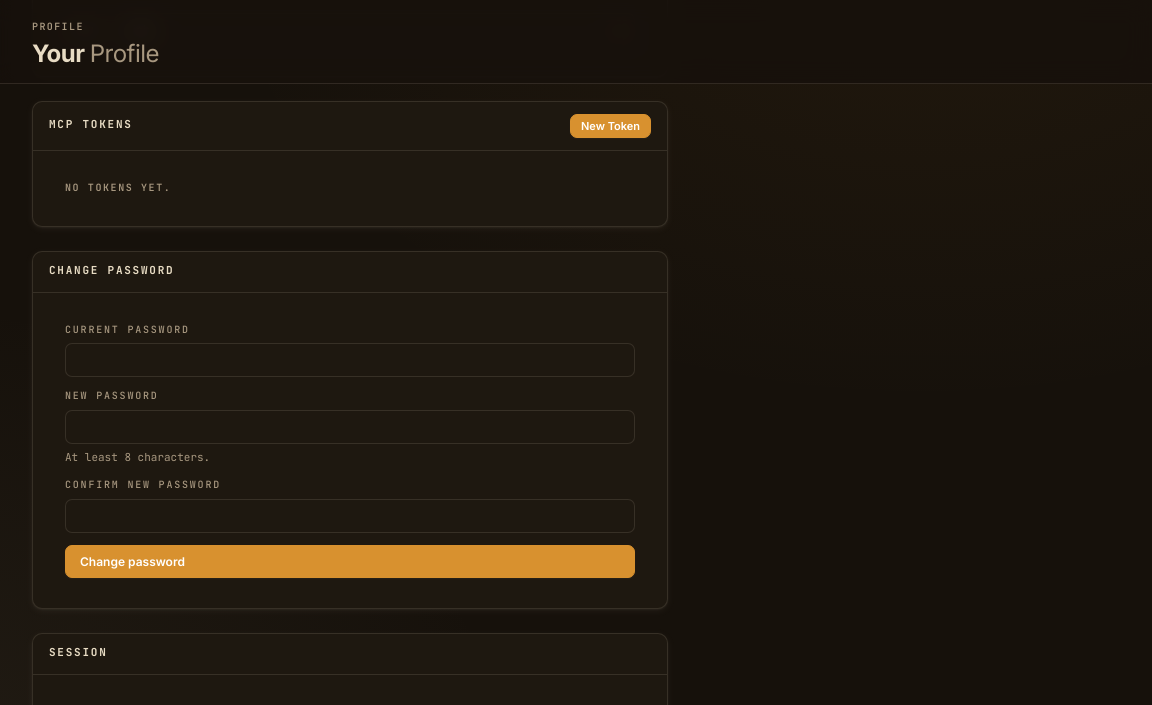
Test: Profile › shows the server error when the current password is wrong
(page scrolled)
In the password field labelled "Current password": (350, 360) [65,343,635,377], type "wrong"
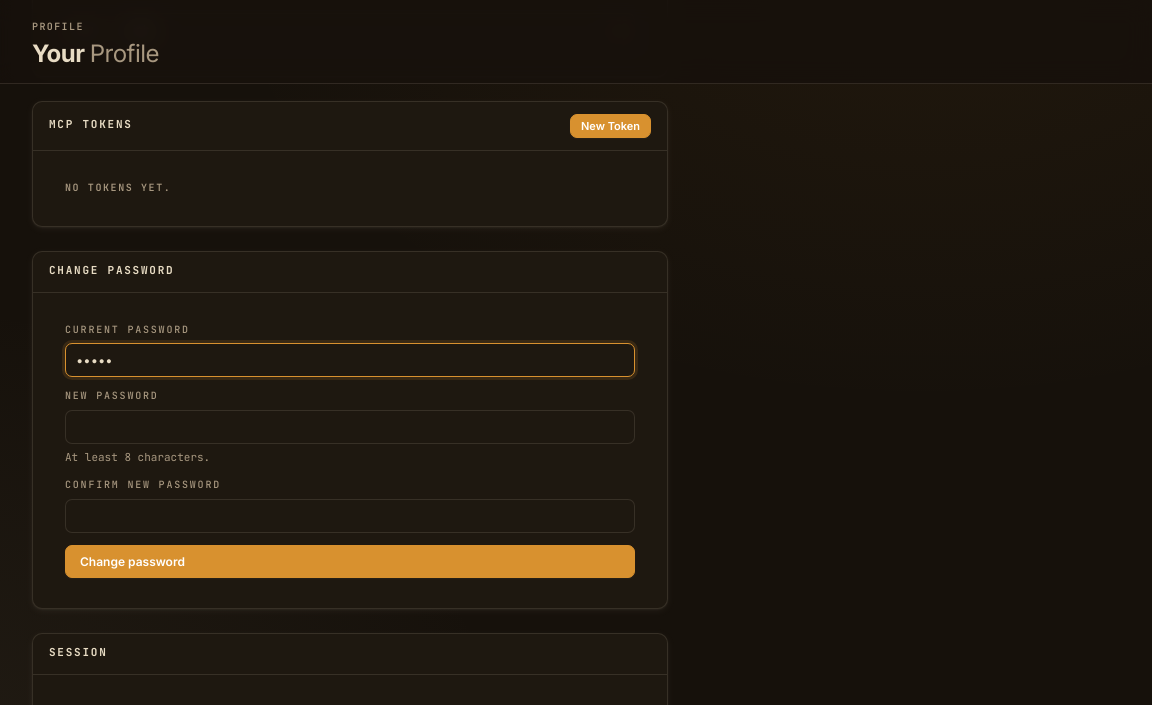
In the password field labelled "New password": (350, 427) [65,410,635,444], type "newsecret1"
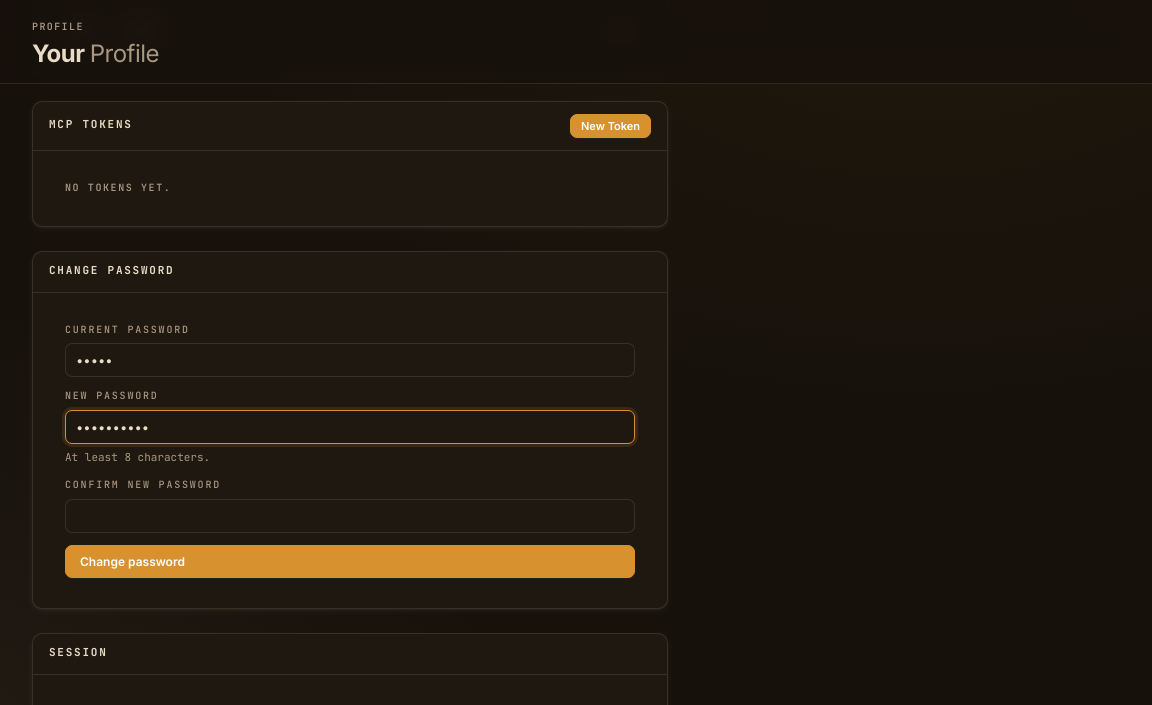
In the password field labelled "Confirm new password": (350, 516) [65,499,635,533], type "newsecret1"
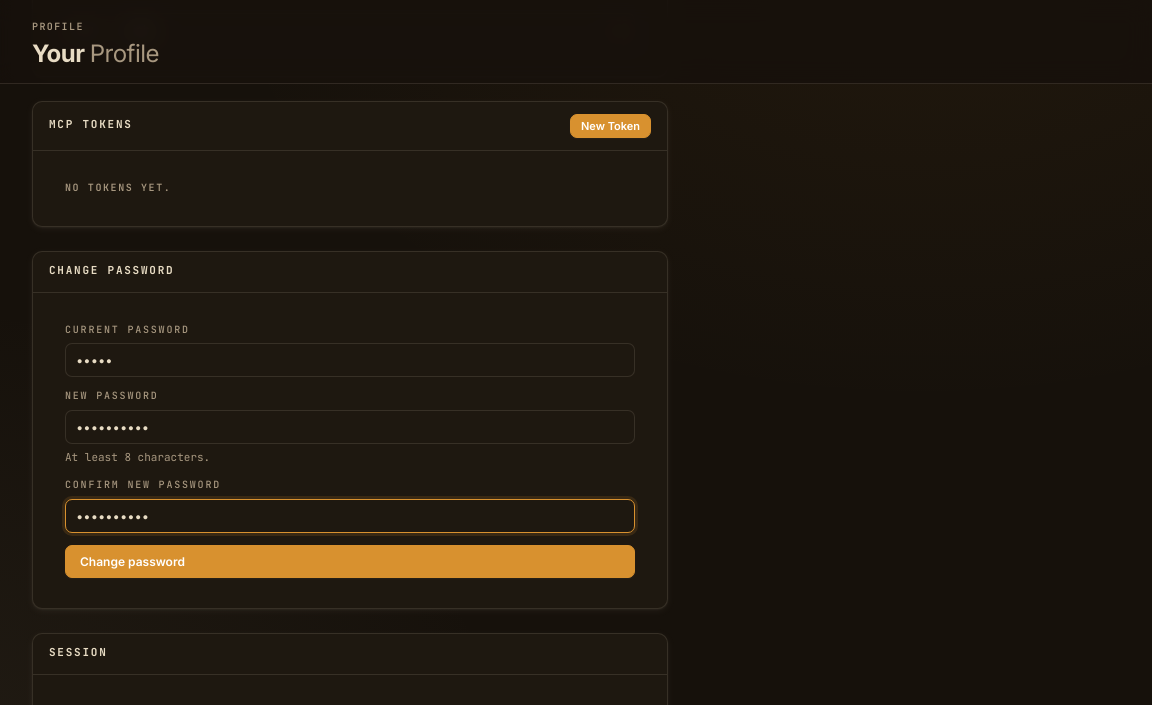
Click the button "Change password": (132, 561) [65,545,635,578]
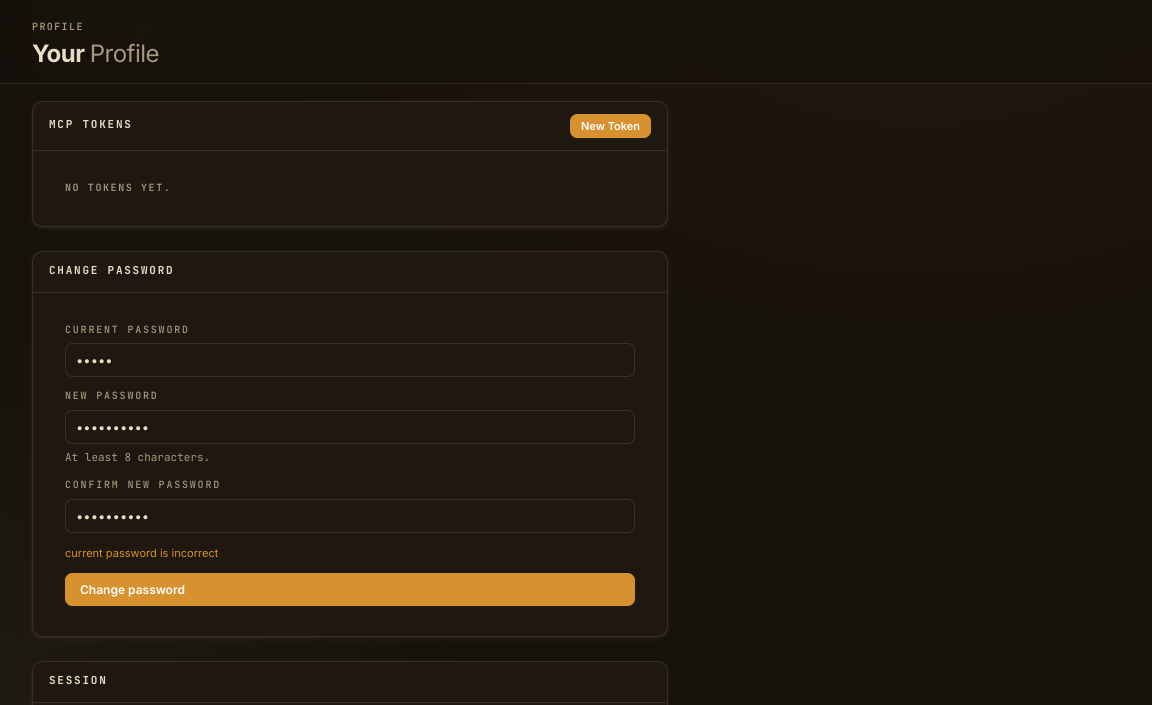
Result: the message reads "current password is incorrect" at [65,546,218,560]
